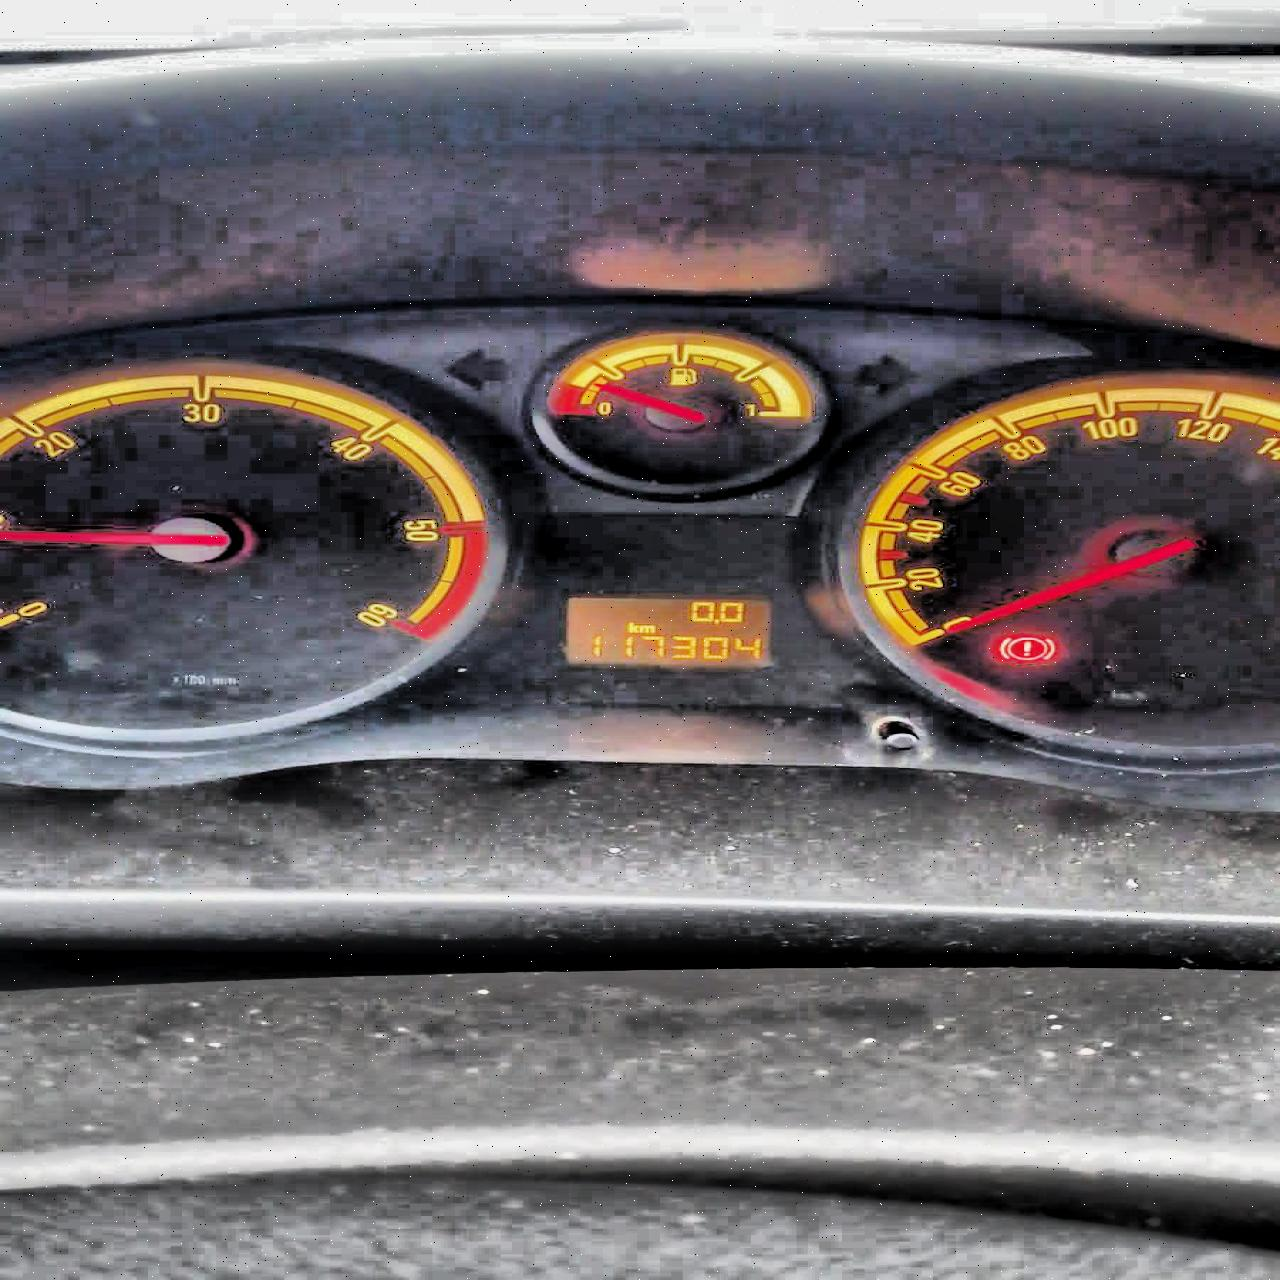-: (713, 618, 720, 625)
0: (701, 636, 728, 659), (719, 600, 744, 621), (688, 601, 714, 621)
1: (591, 634, 601, 656), (622, 635, 633, 656)
3: (668, 635, 695, 659)
4: (733, 638, 761, 659)
7: (639, 635, 665, 656)
X: (626, 621, 639, 633), (639, 625, 655, 633)
odometer: (561, 593, 774, 668)
